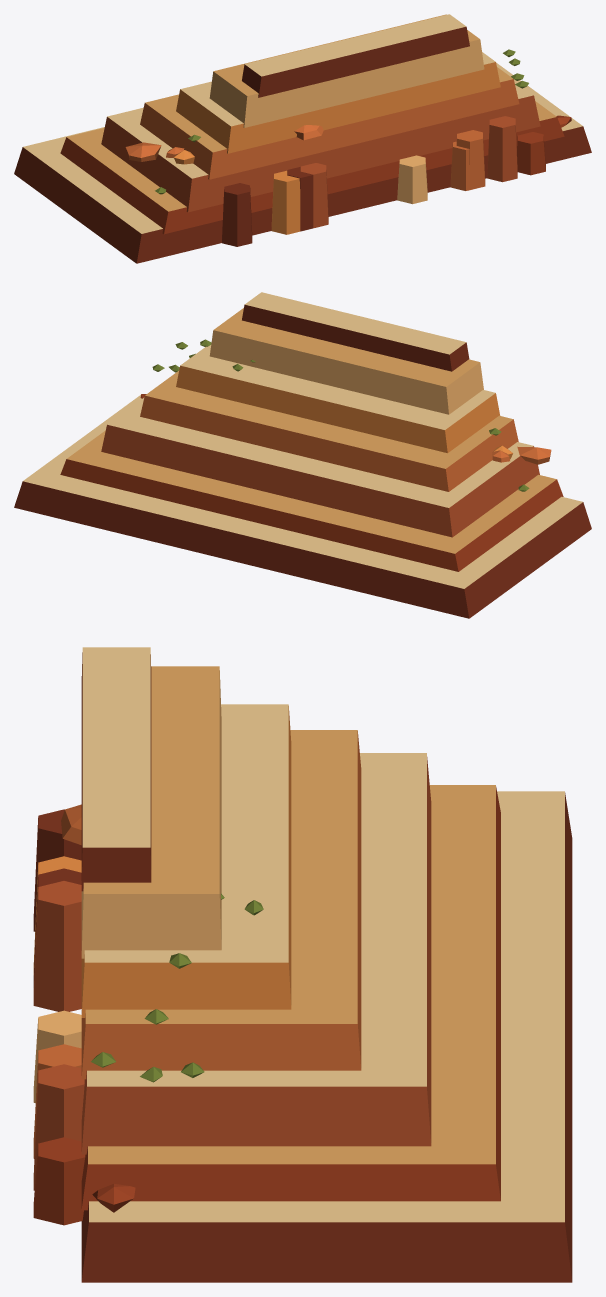
File: W5_Mid_Terraces.fbx
3 renders of one model, top to bottom at view 1: azimuth 30°, elevation 25°; view 2: azimuth 150°, elevation 25°; view 3: azimuth 270°, elevation 25°, orthographic. The views are drawn at different scales.
Visible parts, largest first — view 1: W5_Mid_Terraces; view 2: W5_Mid_Terraces; view 3: W5_Mid_Terraces.
Boxes of the visible parts, x1,y1,x2,y2 form: W5_Mid_Terraces: (14, 14, 591, 263); W5_Mid_Terraces: (14, 292, 591, 618); W5_Mid_Terraces: (33, 647, 572, 1282).
Bounding box in the file's own units: 120 × 39.4 × 61.46.
